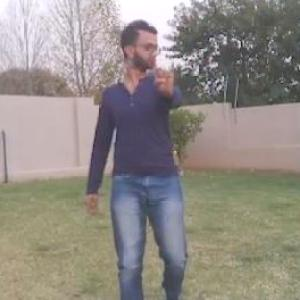takeoff-hand: (147, 50, 184, 97)
